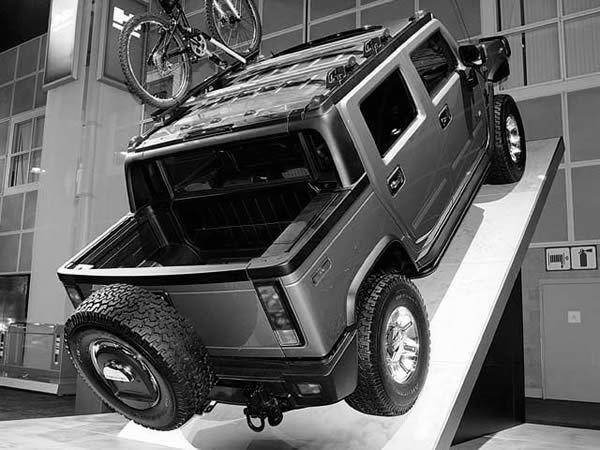car: (52, 1, 532, 438)
